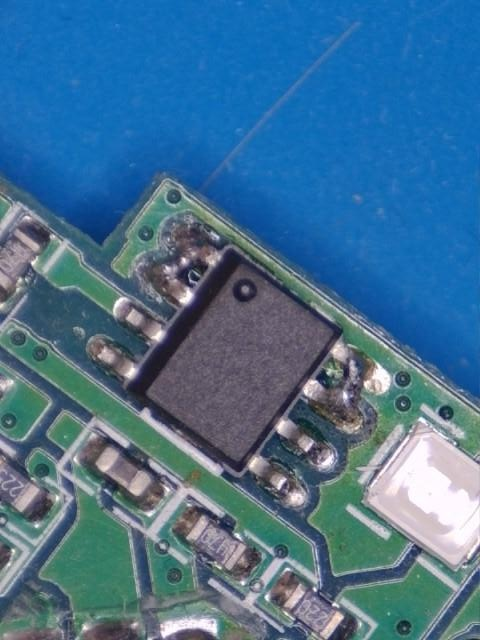pcb_defect: (300, 339, 390, 430), (151, 227, 225, 306)
